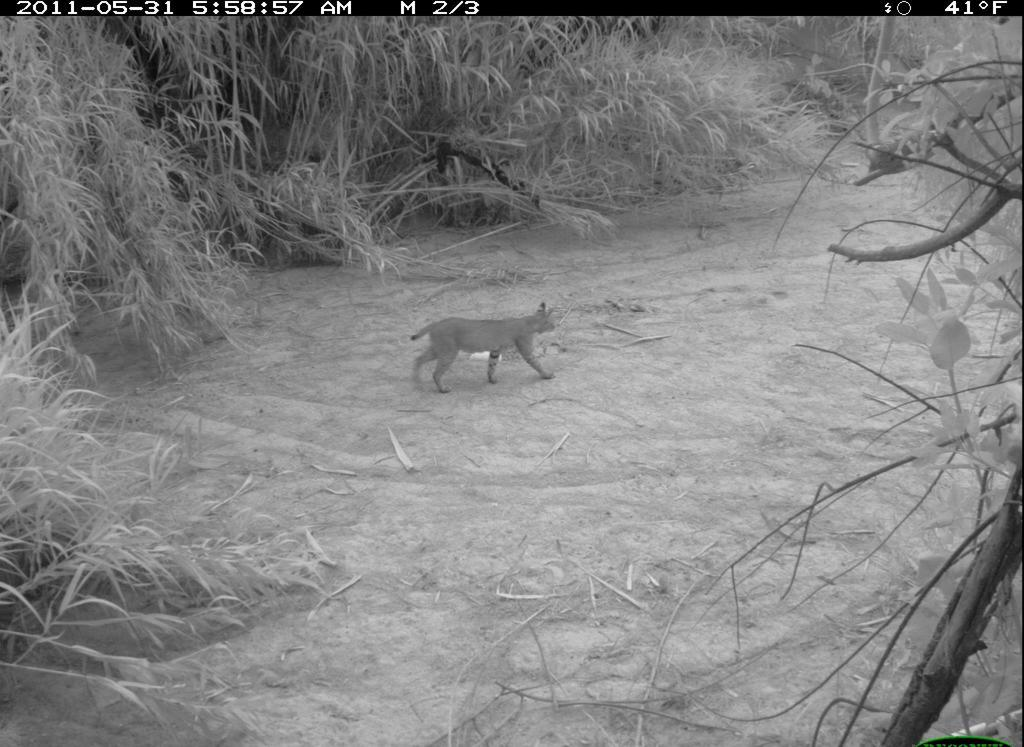bobcat: (406, 297, 568, 401)
